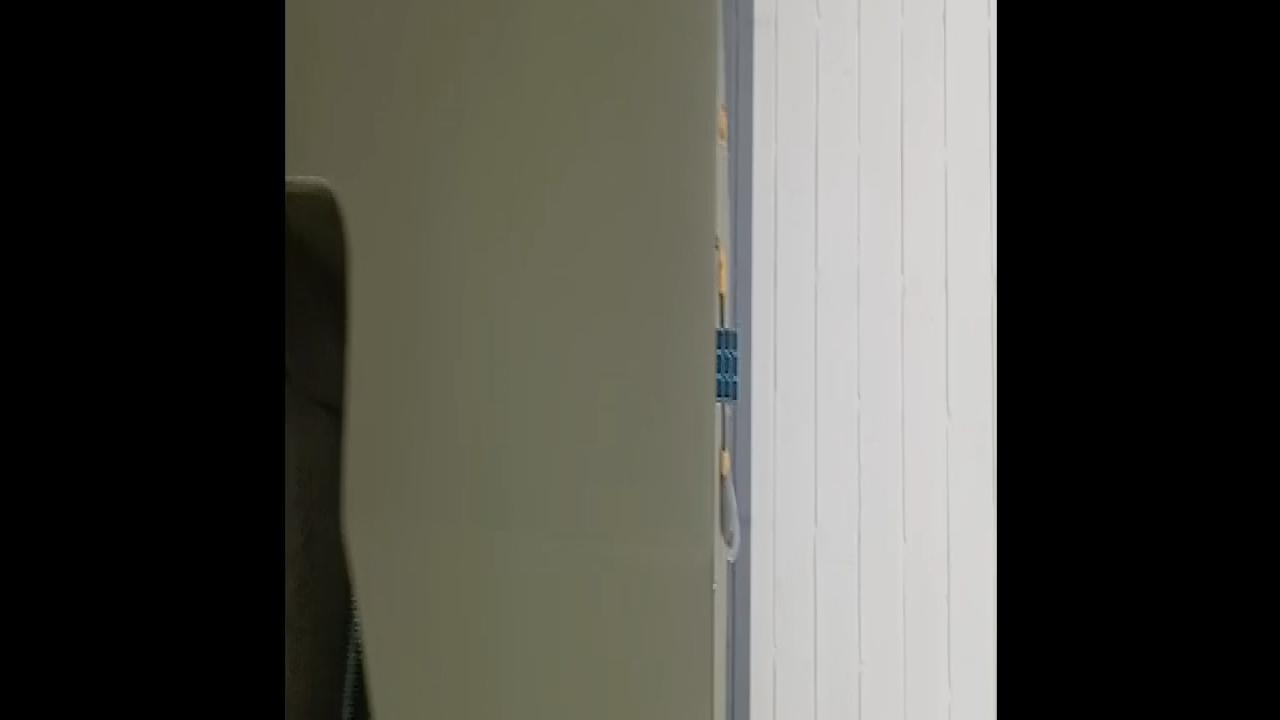Cube: (712, 320, 742, 413)
